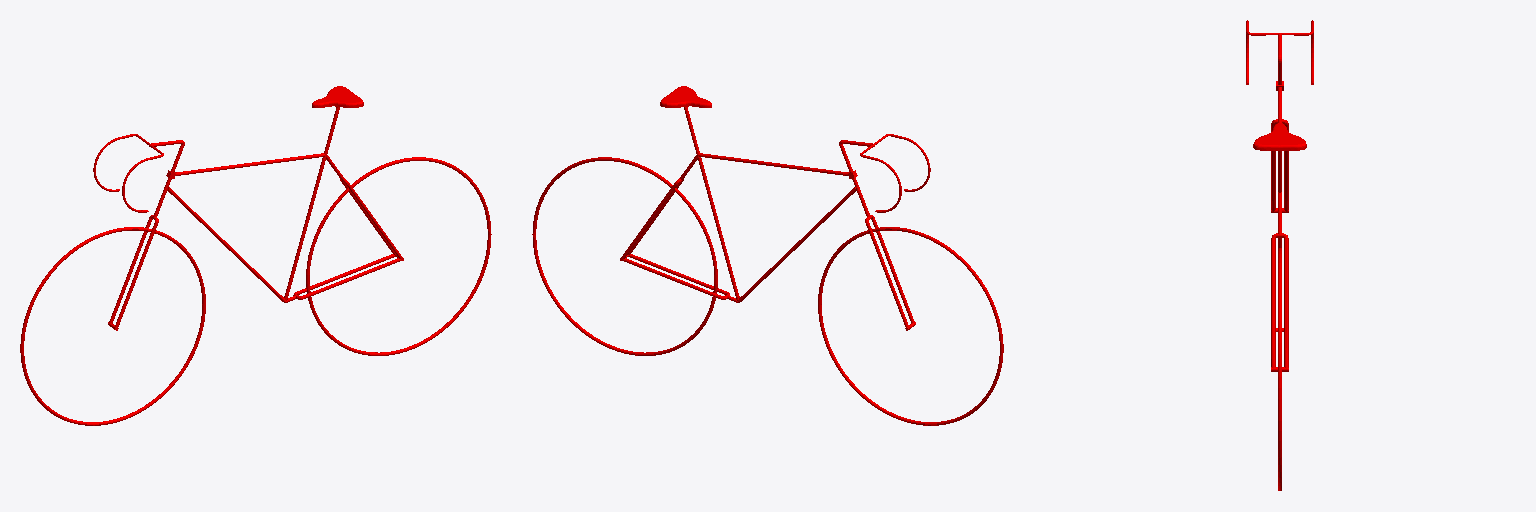
URDF robot description (BricsCAD_Bicycle):
<?xml version="1.0" ?>
<robot name="BricsCAD_Bicycle">
<link name="base_link">
  <inertial>
    <origin rpy="0 0 0" xyz="0.918245 1e-06 0.825684"/>
    <mass value="8.875476"/>
    <inertia ixx="0.82315" ixy="2e-06" ixz="6.729203" iyy="1.342269" iyz="-6.699831" izz="0.531794"/>
  </inertial>
  <visual>
    <origin rpy="0 0 0" xyz="0 0 0"/>
    <geometry>
      <mesh filename="bin_stl/base_link_m-binary.stl"/>
    </geometry>
    <material name="silver">
      <color rgba="1 0 0 1"/>
    </material>
  </visual>
  <collision>
    <origin rpy="0 0 0" xyz="0 0 0"/>
    <geometry>
      <mesh filename="bin_stl/base_link_m-binary.stl"/>
    </geometry>
  </collision>
</link>
<link name="Front_bar_1">
  <inertial>
    <origin rpy="0 0 0" xyz="-0.13812200000000002 0.0 -0.17130100000000004"/>
    <mass value="2.561041"/>
    <inertia ixx="0.163142" ixy="0.0" ixz="0.264626" iyy="0.177416" iyz="-0.293128" izz="0.028739"/>
  </inertial>
  <visual>
    <origin rpy="0 0 0" xyz="-0.261382 0.0 -1.009589"/>
    <geometry>
      <mesh filename="bin_stl/Front_bar_1_m-binary.stl"/>
    </geometry>
    <material name="silver">
      <color rgba="1 0 0 1"/>
    </material>
  </visual>
  <collision>
    <origin rpy="0 0 0" xyz="-0.261382 0.0 -1.009589"/>
    <geometry>
      <mesh filename="bin_stl/Front_bar_1_m-binary.stl"/>
    </geometry>
  </collision>
</link>
<link name="Front_1">
  <inertial>
    <origin rpy="0 0 0" xyz="0.0 0.0 0.0"/>
    <mass value="3.396653"/>
    <inertia ixx="0.284168" ixy="0.0" ixz="0.0" iyy="0.568245" iyz="-0.0" izz="0.284168"/>
  </inertial>
  <visual>
    <origin rpy="0 0 0" xyz="-0.0 0.0 -0.419549"/>
    <geometry>
      <mesh filename="bin_stl/Front_1_m-binary.stl"/>
    </geometry>
    <material name="silver">
      <color rgba="1 0 0 1"/>
    </material>
  </visual>
  <collision>
    <origin rpy="0 0 0" xyz="-0.0 0.0 -0.419549"/>
    <geometry>
      <mesh filename="bin_stl/Front_1_m-binary.stl"/>
    </geometry>
  </collision>
</link>
<link name="Back_1">
  <inertial>
    <origin rpy="0 0 0" xyz="0.0 0.0 0.0"/>
    <mass value="3.396653"/>
    <inertia ixx="0.284168" ixy="0.0" ixz="1.829799" iyy="0.568245" iyz="-1.829798" izz="0.284168"/>
  </inertial>
  <visual>
    <origin rpy="0 0 0" xyz="-1.284013 0.0 -0.419549"/>
    <geometry>
      <mesh filename="bin_stl/Back_1_m-binary.stl"/>
    </geometry>
    <material name="silver">
      <color rgba="1 0 0 1"/>
    </material>
  </visual>
  <collision>
    <origin rpy="0 0 0" xyz="-1.284013 0.0 -0.419549"/>
    <geometry>
      <mesh filename="bin_stl/Back_1_m-binary.stl"/>
    </geometry>
  </collision>
</link>
<joint name="Bar_rotation" type="revolute">
  <origin rpy="0 0 0" xyz="0.261382 0.0 1.009589"/>
  <parent link="base_link"/>
  <child link="Front_bar_1"/>
  <axis xyz="-0.00405 0.0 -0.009143"/>
  <limit effort="100" lower="-0.785398" upper="0.785398" velocity="100"/>
</joint>
<transmission name="Bar_rotation_tran">
  <type>transmission_interface/SimpleTransmission</type>
  <joint name="Bar_rotation">
    <hardwareInterface>PositionJointInterface</hardwareInterface>
  </joint>
  <actuator name="Bar_rotation_actr">
    <hardwareInterface>PositionJointInterface</hardwareInterface>
    <mechanicalReduction>1</mechanicalReduction>
  </actuator>
</transmission>
<joint name="FrontWheel" type="continuous">
  <origin rpy="0 0 0" xyz="-0.261382 0.0 -0.59004"/>
  <parent link="Front_bar_1"/>
  <child link="Front_1"/>
  <axis xyz="0.0 0.01 0.0"/>
</joint>
<transmission name="FrontWheel_tran">
  <type>transmission_interface/SimpleTransmission</type>
  <joint name="FrontWheel">
    <hardwareInterface>PositionJointInterface</hardwareInterface>
  </joint>
  <actuator name="FrontWheel_actr">
    <hardwareInterface>PositionJointInterface</hardwareInterface>
    <mechanicalReduction>1</mechanicalReduction>
  </actuator>
</transmission>
<joint name="BackWheel" type="continuous">
  <origin rpy="0 0 0" xyz="1.284013 0.0 0.419549"/>
  <parent link="base_link"/>
  <child link="Back_1"/>
  <axis xyz="0.0 0.01 0.0"/>
</joint>
<transmission name="BackWheel_tran">
  <type>transmission_interface/SimpleTransmission</type>
  <joint name="BackWheel">
    <hardwareInterface>PositionJointInterface</hardwareInterface>
  </joint>
  <actuator name="BackWheel_actr">
    <hardwareInterface>PositionJointInterface</hardwareInterface>
    <mechanicalReduction>1</mechanicalReduction>
  </actuator>
</transmission>
<gazebo>
  <plugin filename="libgazebo_ros_control.so" name="control"/>
</gazebo>
</robot>

--- What the picture shows (computed from the rendered views, not written in the file) ---
3 views of the same robot in one strip: view 1: azimuth 30°, elevation 25°; view 2: azimuth 150°, elevation 25°; view 3: azimuth 270°, elevation 25° (orthographic).
Model BricsCAD_Bicycle with 4 links and 3 joints (1 revolute, 2 continuous), rooted at base_link, posed all joints at 0.
Visible links, largest first — view 1: base_link, Front_1, Back_1, Front_bar_1; view 2: base_link, Front_1, Back_1, Front_bar_1; view 3: base_link, Front_bar_1, Back_1.
Boxes of the visible links, <box> form: base_link: <box>166,86,403,302</box>; Front_1: <box>20,227,205,425</box>; Back_1: <box>306,157,491,355</box>; Front_bar_1: <box>93,134,184,330</box>; base_link: <box>620,86,857,302</box>; Front_1: <box>818,227,1003,425</box>; Back_1: <box>532,157,717,355</box>; Front_bar_1: <box>839,134,930,330</box>; base_link: <box>1253,81,1306,371</box>; Front_bar_1: <box>1246,20,1313,212</box>; Back_1: <box>1278,248,1281,490</box>.
Size in the robot's own frame: 2.12 by 0.232 by 1.17 metres.
4 mesh visuals loaded from 4 distinct referenced files (4 binary STL).
